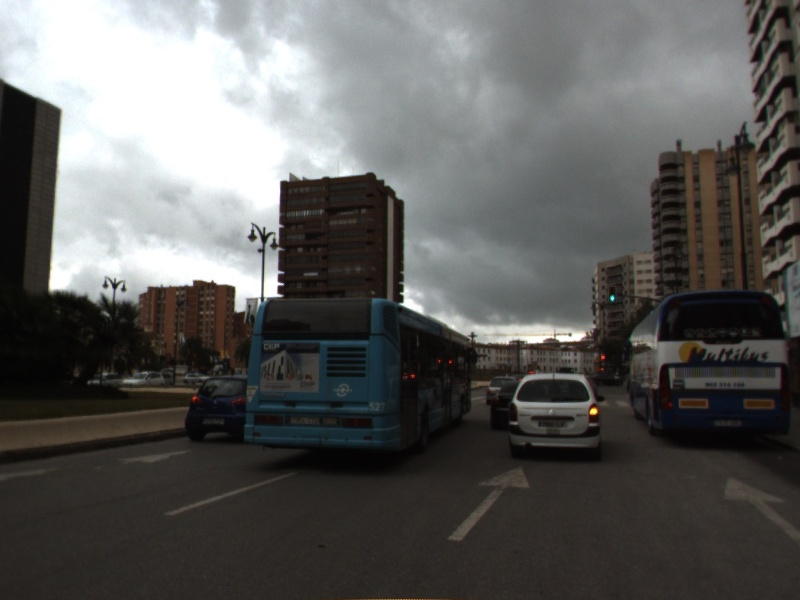STRAIGHT: (443, 463, 533, 544), (721, 472, 800, 544)
